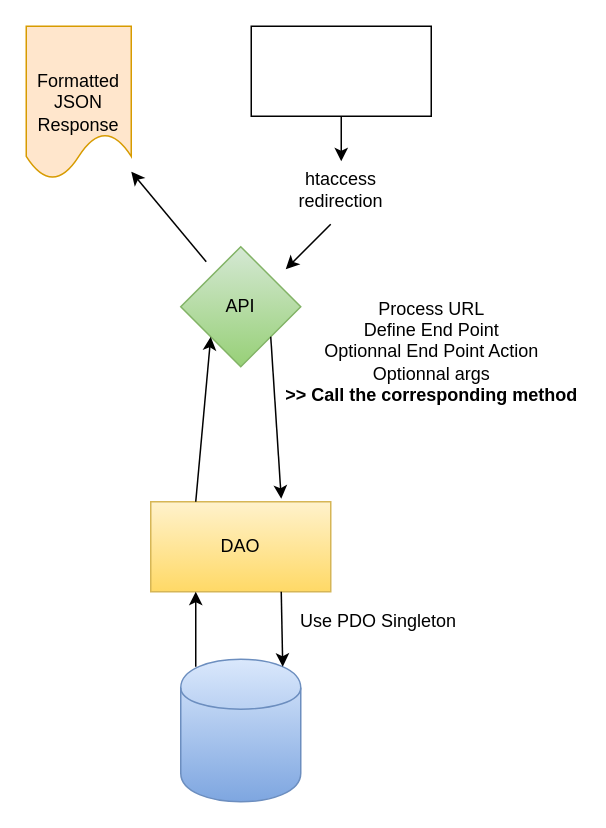
This 606x828 diagram has some shape labels left out. The shapes that lost their labels are listed below. From the top down, each one's centre as x and y in pixels, then its label:
At (340,70): "HTTP Requests".
At (240,730): "DATABASE MYSQL".
